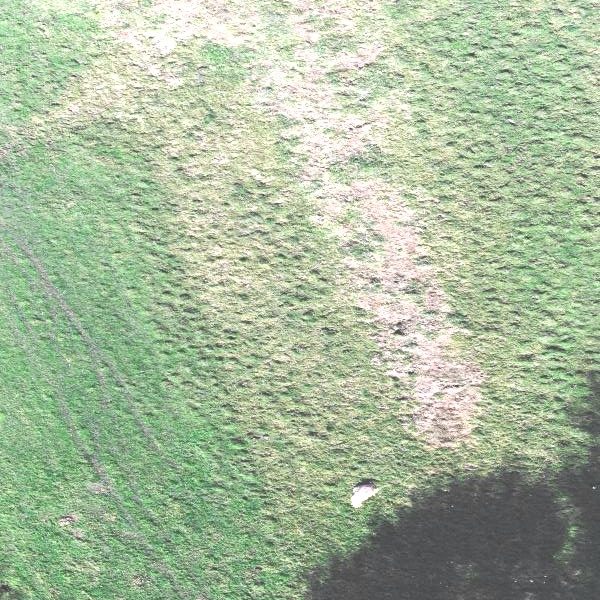sheep: (345, 473, 391, 510)
